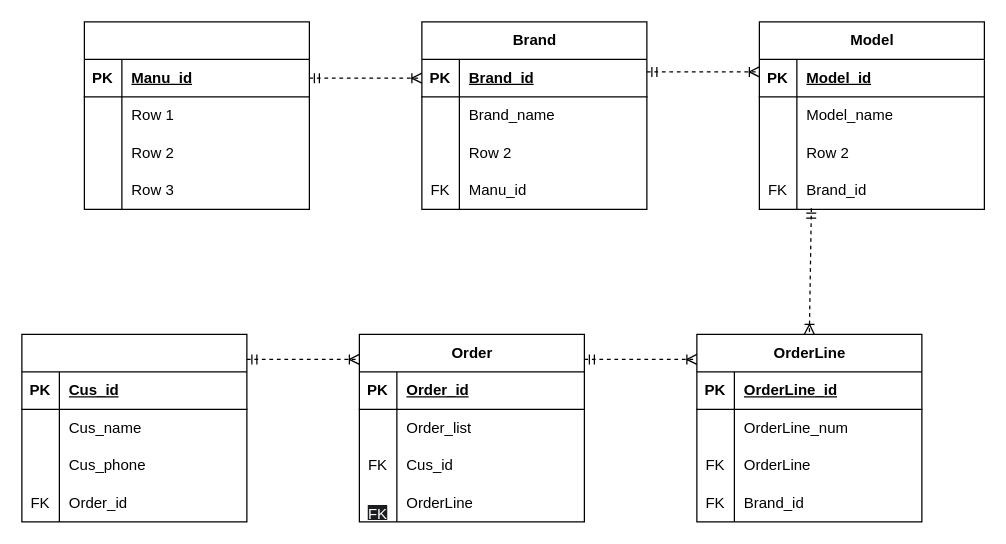
This 1006x544 diagram has some shape labels left out. The box of each missing label's shape, as (x1, y1, x2, y2) in pixels:
Customer: (21, 333, 247, 522)
Manufacturer: (83, 21, 309, 209)
